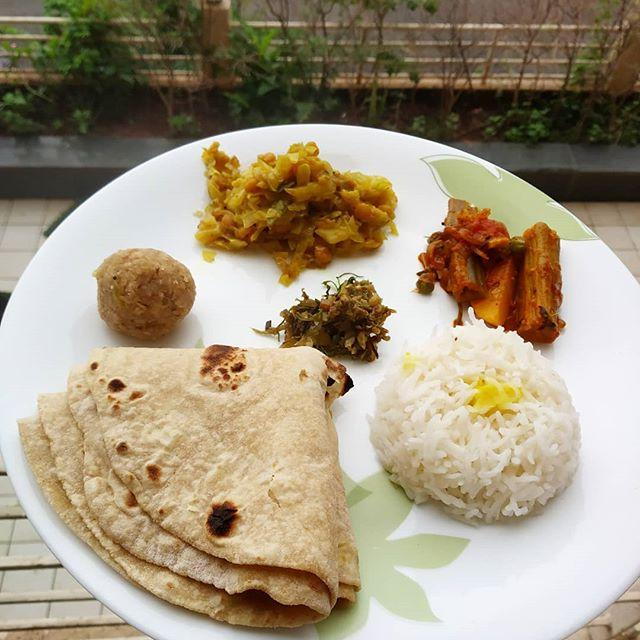Roti: (24, 341, 368, 610)
White Rice: (371, 321, 590, 521)
